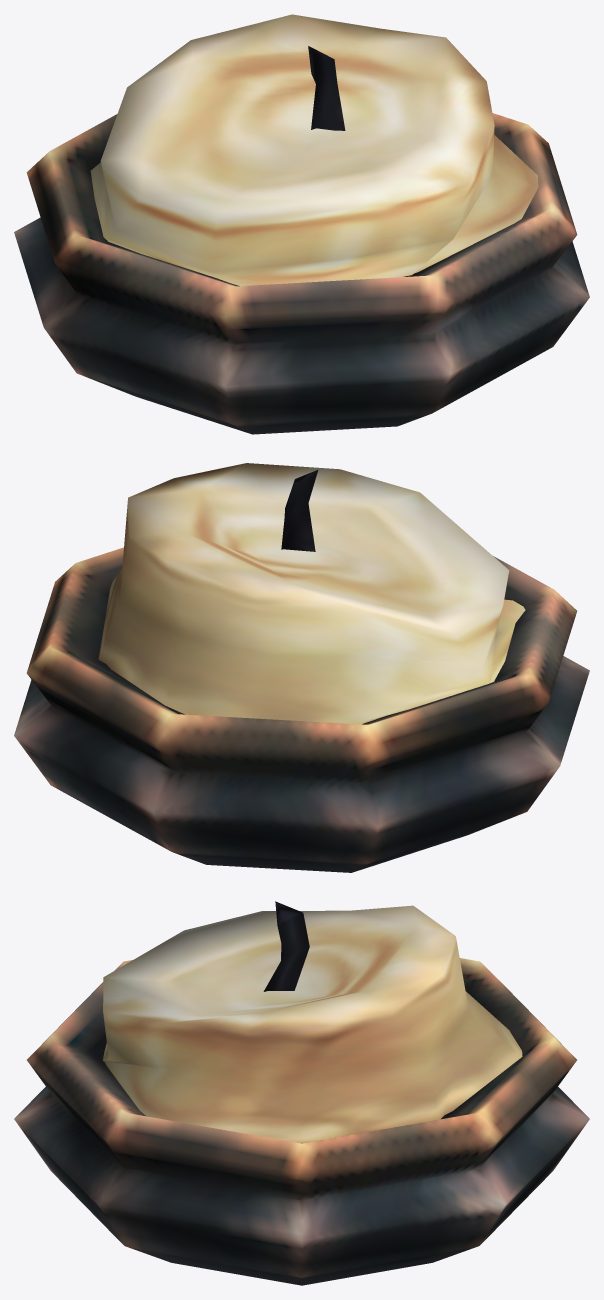
The model's file is SM_candle_02.gltf.
3 views of the same model, one above another, from view 1: azimuth 30°, elevation 25°; view 2: azimuth 150°, elevation 25°; view 3: azimuth 270°, elevation 25° (orthographic). The views are drawn at different scales.
Parts seen in each view (by area): view 1: SM_candle_02; view 2: SM_candle_02; view 3: SM_candle_02.
Part boxes in pixels (<box>): SM_candle_02: <box>14,14,589,434</box>; SM_candle_02: <box>14,463,589,872</box>; SM_candle_02: <box>14,901,589,1285</box>.
Bounding box in the file's own units: 0.189 × 0.1104 × 0.189.
1 material, 1 textured.
